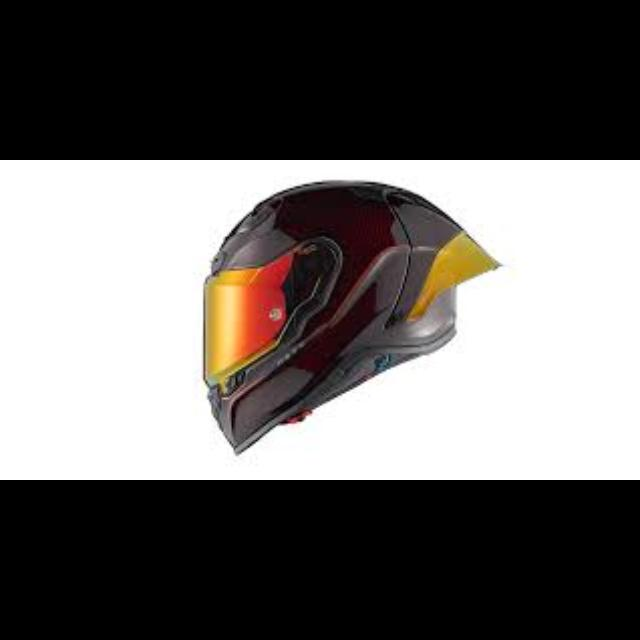motorcycle-helmets: (192, 182, 490, 450)
